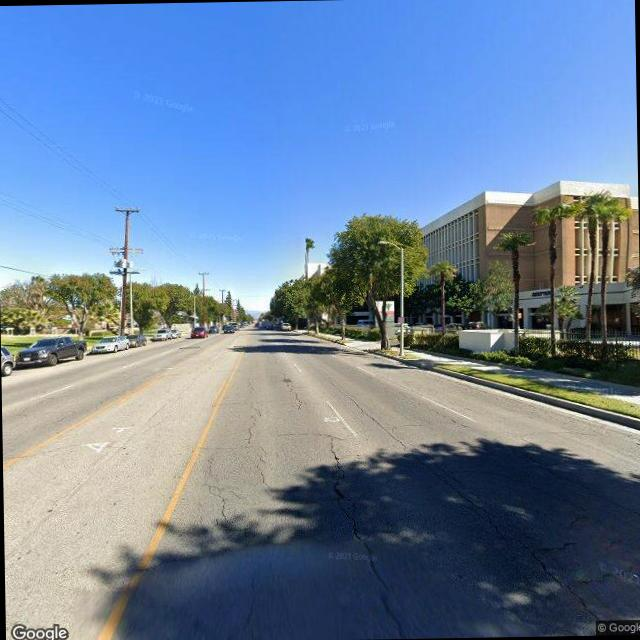pothole: (364, 400, 600, 621), (318, 423, 404, 637), (243, 385, 274, 496)
